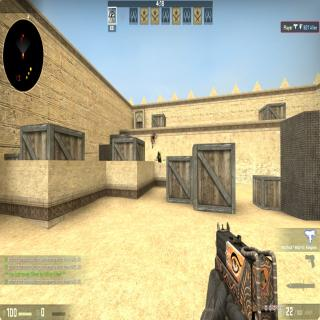CT-Body: (157, 152, 161, 162)
CT-Head: (157, 150, 160, 156)
